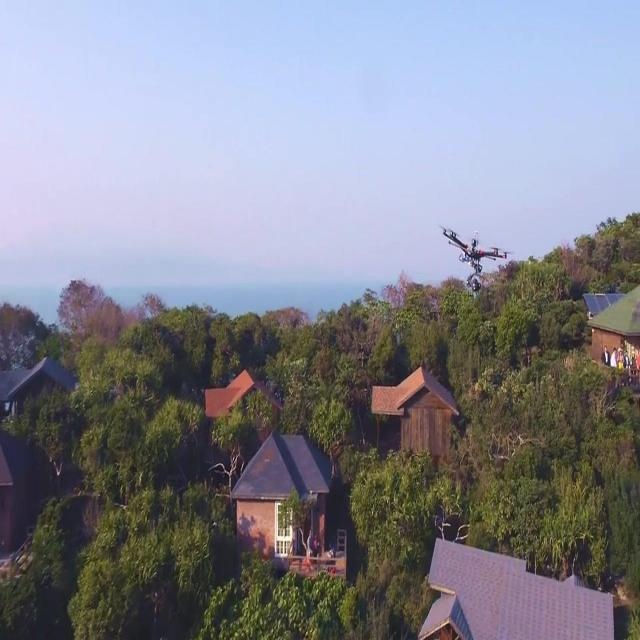UAV: (439, 225, 513, 291)
